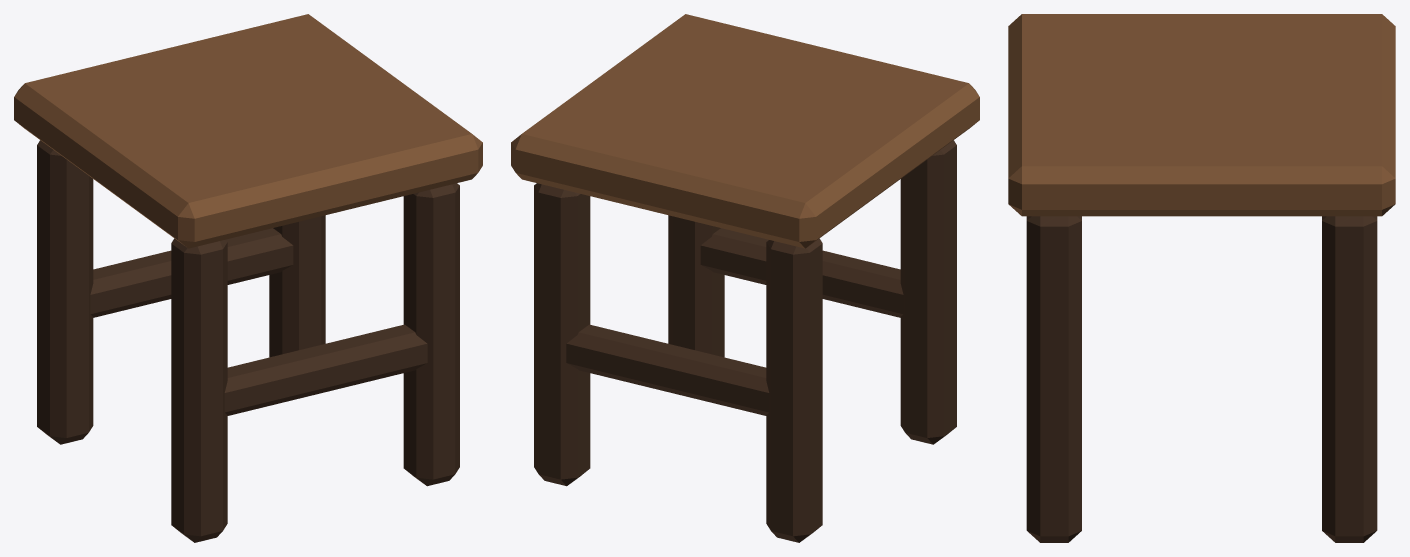
File: Prop_Stool.fbx
The picture shows the model from 3 angles, left to right: view 1: azimuth 30°, elevation 25°; view 2: azimuth 150°, elevation 25°; view 3: azimuth 270°, elevation 25°; orthographic projection. The views are drawn at different scales.
Visible parts, largest first — view 1: Prop_Stool; view 2: Prop_Stool; view 3: Prop_Stool.
Part boxes in pixels (box(x1,y1,x2,y2)): Prop_Stool: box(14, 14, 482, 542); Prop_Stool: box(511, 14, 979, 542); Prop_Stool: box(1008, 14, 1395, 542).
Bounding box in the file's own units: 42 × 46 × 42.
